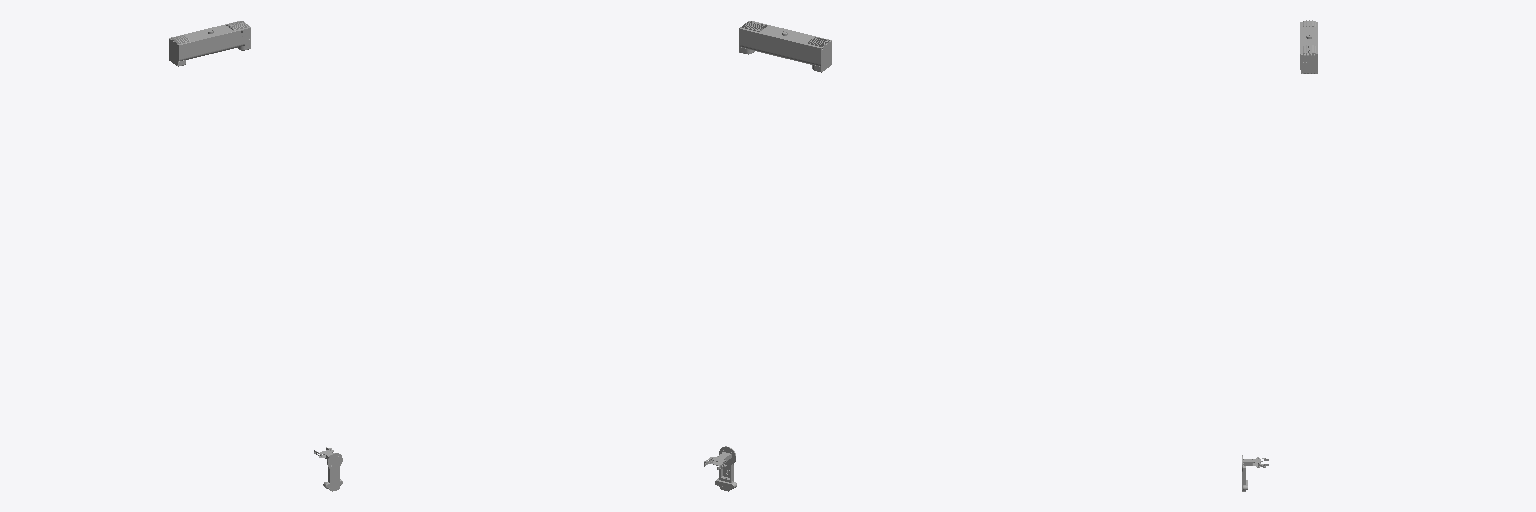
--- Render facts (derived) ---
The picture shows the robot from 3 angles, left to right: view 1: azimuth 30°, elevation 25°; view 2: azimuth 150°, elevation 25°; view 3: azimuth 270°, elevation 25°; orthographic projection.
Robot: LeftRobotSence — 24 links, 23 joints (12 revolute, 11 fixed); root link world_table; default pose: every joint at zero.
Visible links, largest first — view 1: COMATRIX_link; view 2: COMATRIX_link; view 3: COMATRIX_link.
Boxes of the visible links, x1,y1,x2,y2 form: COMATRIX_link: (169,21,250,66); COMATRIX_link: (739,21,831,72); COMATRIX_link: (1300,20,1317,73).
Size in the robot's own frame: 0.8365 by 0.4543 by 2.72 metres.
9 mesh visuals loaded from 18 distinct referenced files (9 Collada DAE); not drawn: 9 (reference not matched to a file when rendering).

robot.urdf — LeftRobotSence:
<?xml version="1.0" ?>
<!-- =================================================================================== -->
<!-- |    This document was autogenerated by xacro from [local-path]/catkin_ws/src/robot_description/urdf/sence/left_robot_calibration.urdf.xacro | -->
<!-- |    EDITING THIS FILE BY HAND IS NOT RECOMMENDED                                 | -->
<!-- =================================================================================== -->
<robot name="LeftRobotSence">
    <!--
    Base UR robot series xacro macro.

    NOTE: this is NOT a URDF. It cannot directly be loaded by consumers
    expecting a flattened '.urdf' file. See the top-level '.xacro' for that
    (but note: that .xacro must still be processed by the xacro command).

    For use in '.launch' files: use one of the 'load_urX.launch' convenience
    launch files.

    This file models the base kinematic chain of a UR robot, which then gets
    parameterised by various configuration files to convert it into a UR3(e),
    UR5(e), UR10(e) or UR16e.

    NOTE: the default kinematic parameters (ie: link lengths, frame locations,
    offets, etc) do not correspond to any particular robot. They are defaults
    only. There WILL be non-zero offsets between the Forward Kinematics results
    in TF (ie: robot_state_publisher) and the values reported by the Teach
    Pendant.

    For accurate (and robot-specific) transforms, the 'kinematics_parameters_file'
    parameter MUST point to a .yaml file containing the appropriate values for
    the targetted robot.

    If using the UniversalRobots/Universal_Robots_ROS_Driver, follow the steps
    described in the readme of that repository to extract the kinematic
    calibration from the controller and generate the required .yaml file.

    Main author of the migration to yaml configs: Ludovic Delval.

    Contributors to previous versions (in no particular order):

     - Felix Messmer
     - Kelsey Hawkins
     - Wim Meeussen
     - Shaun Edwards
     - Nadia Hammoudeh Garcia
     - Dave Hershberger
     - G. vd. Hoorn
     - Philip Long
     - Dave Coleman
     - Miguel Prada
     - Mathias Luedtke
     - Marcel Schnirring
     - Felix von Drigalski
     - Felix Exner
     - Jimmy Da Silva
     - Ajit Krisshna N L
     - Muhammad Asif Rana
  -->
    <!--
    NOTE: the macro defined in this file is NOT part of the public API of this
          package. Users CANNOT rely on this file being available, or stored in
          this location. Nor can they rely on the existence of the macro.
  -->
    <transmission name="leftshoulder_pan_trans">
        <type>transmission_interface/SimpleTransmission</type>
        <joint name="leftshoulder_pan_joint">
            <hardwareInterface>hardware_interface/PositionJointInterface</hardwareInterface>
        </joint>
        <actuator name="leftshoulder_pan_motor">
            <mechanicalReduction>1</mechanicalReduction>
            <hardwareInterface>hardware_interface/EffortJointInterface</hardwareInterface>
        </actuator>
    </transmission>
    <transmission name="leftshoulder_lift_trans">
        <type>transmission_interface/SimpleTransmission</type>
        <joint name="leftshoulder_lift_joint">
            <hardwareInterface>hardware_interface/PositionJointInterface</hardwareInterface>
        </joint>
        <actuator name="leftshoulder_lift_motor">
            <mechanicalReduction>1</mechanicalReduction>
            <hardwareInterface>hardware_interface/EffortJointInterface</hardwareInterface>
        </actuator>
    </transmission>
    <transmission name="leftelbow_trans">
        <type>transmission_interface/SimpleTransmission</type>
        <joint name="leftelbow_joint">
            <hardwareInterface>hardware_interface/PositionJointInterface</hardwareInterface>
        </joint>
        <actuator name="leftelbow_motor">
            <mechanicalReduction>1</mechanicalReduction>
            <hardwareInterface>hardware_interface/EffortJointInterface</hardwareInterface>
        </actuator>
    </transmission>
    <transmission name="leftwrist_1_trans">
        <type>transmission_interface/SimpleTransmission</type>
        <joint name="leftwrist_1_joint">
            <hardwareInterface>hardware_interface/PositionJointInterface</hardwareInterface>
        </joint>
        <actuator name="leftwrist_1_motor">
            <mechanicalReduction>1</mechanicalReduction>
            <hardwareInterface>hardware_interface/EffortJointInterface</hardwareInterface>
        </actuator>
    </transmission>
    <transmission name="leftwrist_2_trans">
        <type>transmission_interface/SimpleTransmission</type>
        <joint name="leftwrist_2_joint">
            <hardwareInterface>hardware_interface/PositionJointInterface</hardwareInterface>
        </joint>
        <actuator name="leftwrist_2_motor">
            <mechanicalReduction>1</mechanicalReduction>
            <hardwareInterface>hardware_interface/EffortJointInterface</hardwareInterface>
        </actuator>
    </transmission>
    <transmission name="leftwrist_3_trans">
        <type>transmission_interface/SimpleTransmission</type>
        <joint name="leftwrist_3_joint">
            <hardwareInterface>hardware_interface/PositionJointInterface</hardwareInterface>
        </joint>
        <actuator name="leftwrist_3_motor">
            <mechanicalReduction>1</mechanicalReduction>
            <hardwareInterface>hardware_interface/EffortJointInterface</hardwareInterface>
        </actuator>
    </transmission>
    <!-- links: main serial chain -->
    <link name="leftbase_link" />
    <link name="leftbase_link_inertia">
        <visual>
            <origin rpy="0 0 3.141592653589793" xyz="0 0 0" />
            <geometry>
                <mesh filename="package://robot_description/meshes/ur5/visual/base.dae" />
            </geometry>
            <material name="LightGrey">
                <color rgba="0.7 0.7 0.7 1.0" />
            </material>
        </visual>
        <collision>
            <origin rpy="0 0 3.141592653589793" xyz="0 0 0" />
            <geometry>
                <mesh filename="package://robot_description/meshes/ur5/collision/base.stl" />
            </geometry>
        </collision>
        <inertial>
            <mass value="4.0" />
            <origin rpy="0 0 0" xyz="0 0 0" />
            <inertia ixx="0.00443333156" ixy="0.0" ixz="0.0" iyy="0.00443333156" iyz="0.0" izz="0.0072" />
        </inertial>
    </link>
    <link name="leftshoulder_link">
        <visual>
            <origin rpy="0 0 3.141592653589793" xyz="0 0 0" />
            <geometry>
                <mesh filename="package://robot_description/meshes/ur5/visual/shoulder.dae" />
            </geometry>
            <material name="LightGrey">
                <color rgba="0.7 0.7 0.7 1.0" />
            </material>
        </visual>
        <collision>
            <origin rpy="0 0 3.141592653589793" xyz="0 0 0" />
            <geometry>
                <mesh filename="package://robot_description/meshes/ur5/collision/shoulder.stl" />
            </geometry>
        </collision>
        <inertial>
            <mass value="3.7" />
            <origin rpy="0 0 0" xyz="0 0 0" />
            <inertia ixx="0.014972352344389999" ixy="0.0" ixz="0.0" iyy="0.014972352344389999" iyz="0.0" izz="0.01040625" />
        </inertial>
    </link>
    <link name="leftupper_arm_link">
        <visual>
            <origin rpy="1.5707963267948966 0 -1.5707963267948966" xyz="0 0 0.13585" />
            <geometry>
                <mesh filename="package://robot_description/meshes/ur5/visual/upperarm.dae" />
            </geometry>
            <material name="LightGrey">
                <color rgba="0.7 0.7 0.7 1.0" />
            </material>
        </visual>
        <collision>
            <origin rpy="1.5707963267948966 0 -1.5707963267948966" xyz="0 0 0.13585" />
            <geometry>
                <mesh filename="package://robot_description/meshes/ur5/collision/upperarm.stl" />
            </geometry>
        </collision>
        <inertial>
            <mass value="8.393" />
            <origin rpy="0 1.5707963267948966 0" xyz="-0.2125 0.0 0.136" />
            <inertia ixx="0.1338857818623325" ixy="0.0" ixz="0.0" iyy="0.1338857818623325" iyz="0.0" izz="0.0151074" />
        </inertial>
    </link>
    <link name="leftforearm_link">
        <visual>
            <origin rpy="1.5707963267948966 0 -1.5707963267948966" xyz="0 0 0.0165" />
            <geometry>
                <mesh filename="package://robot_description/meshes/ur5/visual/forearm.dae" />
            </geometry>
            <material name="LightGrey">
                <color rgba="0.7 0.7 0.7 1.0" />
            </material>
        </visual>
        <collision>
            <origin rpy="1.5707963267948966 0 -1.5707963267948966" xyz="0 0 0.0165" />
            <geometry>
                <mesh filename="package://robot_description/meshes/ur5/collision/forearm.stl" />
            </geometry>
        </collision>
        <inertial>
            <mass value="2.275" />
            <origin rpy="0 1.5707963267948966 0" xyz="-0.196125 0.0 0.0165" />
            <inertia ixx="0.03121679102890359" ixy="0.0" ixz="0.0" iyy="0.03121679102890359" iyz="0.0" izz="0.004095" />
        </inertial>
    </link>
    <link name="leftwrist_1_link">
        <visual>
            <!-- TODO: Move this to a parameter -->
            <origin rpy="1.5707963267948966 0 0" xyz="0 0 -0.093" />
            <geometry>
                <mesh filename="package://robot_description/meshes/ur5/visual/wrist1.dae" />
            </geometry>
            <material name="LightGrey">
                <color rgba="0.7 0.7 0.7 1.0" />
            </material>
        </visual>
        <collision>
            <origin rpy="1.5707963267948966 0 0" xyz="0 0 -0.093" />
            <geometry>
                <mesh filename="package://robot_description/meshes/ur5/collision/wrist1.stl" />
            </geometry>
        </collision>
        <inertial>
            <mass value="1.219" />
            <origin rpy="0 0 0" xyz="0 0 0" />
            <inertia ixx="0.0020138887777775" ixy="0.0" ixz="0.0" iyy="0.0020138887777775" iyz="0.0" izz="0.0021942" />
        </inertial>
    </link>
    <link name="leftwrist_2_link">
        <visual>
            <origin rpy="0 0 0" xyz="0 0 -0.095" />
            <geometry>
                <mesh filename="package://robot_description/meshes/ur5/visual/wrist2.dae" />
            </geometry>
            <material name="LightGrey">
                <color rgba="0.7 0.7 0.7 1.0" />
            </material>
        </visual>
        <collision>
            <origin rpy="0 0 0" xyz="0 0 -0.095" />
            <geometry>
                <mesh filename="package://robot_description/meshes/ur5/collision/wrist2.stl" />
            </geometry>
        </collision>
        <inertial>
            <mass value="1.219" />
            <origin rpy="0 0 0" xyz="0 0 0" />
            <inertia ixx="0.0018310388509175" ixy="0.0" ixz="0.0" iyy="0.0018310388509175" iyz="0.0" izz="0.0021942" />
        </inertial>
    </link>
    <link name="leftwrist_3_link">
        <visual>
            <origin rpy="1.5707963267948966 0 0" xyz="0 0 -0.0818" />
            <geometry>
                <mesh filename="package://robot_description/meshes/ur5/visual/wrist3.dae" />
            </geometry>
            <material name="LightGrey">
                <color rgba="0.7 0.7 0.7 1.0" />
            </material>
        </visual>
        <collision>
            <origin rpy="1.5707963267948966 0 0" xyz="0 0 -0.0818" />
            <geometry>
                <mesh filename="package://robot_description/meshes/ur5/collision/wrist3.stl" />
            </geometry>
        </collision>
        <inertial>
            <mass value="0.1879" />
            <origin rpy="0 0 0" xyz="0.0 0.0 -0.01525" />
            <inertia ixx="8.062472608343e-05" ixy="0.0" ixz="0.0" iyy="8.062472608343e-05" iyz="0.0" izz="0.0001321171875" />
        </inertial>
    </link>
    <!-- joints: main serial chain -->
    <joint name="leftbase_link-base_link_inertia" type="fixed">
        <parent link="leftbase_link" />
        <child link="leftbase_link_inertia" />
        <!-- 'base_link' is REP-103 aligned (so X+ forward), while the internal
           frames of the robot/controller have X+ pointing backwards.
           Use the joint between 'base_link' and 'base_link_inertia' (a dummy
           link/frame) to introduce the necessary rotation over Z (of pi rad).
      -->
        <origin rpy="0 0 3.141592653589793" xyz="0 0 0" />
    </joint>
    <joint name="leftshoulder_pan_joint" type="revolute">
        <parent link="leftbase_link_inertia" />
        <child link="leftshoulder_link" />
        <origin rpy="0 0 0" xyz="0 0 0.089159" />
        <axis xyz="0 0 1" />
        <limit effort="150.0" lower="-6.283185307179586" upper="6.283185307179586" velocity="3.141592653589793" />
        <dynamics damping="0" friction="0" />
    </joint>
    <joint name="leftshoulder_lift_joint" type="revolute">
        <parent link="leftshoulder_link" />
        <child link="leftupper_arm_link" />
        <origin rpy="1.570796327 0 0" xyz="0 0 0" />
        <axis xyz="0 0 1" />
        <limit effort="150.0" lower="-6.283185307179586" upper="6.283185307179586" velocity="3.141592653589793" />
        <dynamics damping="0" friction="0" />
    </joint>
    <joint name="leftelbow_joint" type="revolute">
        <parent link="leftupper_arm_link" />
        <child link="leftforearm_link" />
        <origin rpy="0 0 0" xyz="-0.425 0 0" />
        <axis xyz="0 0 1" />
        <limit effort="150.0" lower="-3.141592653589793" upper="3.141592653589793" velocity="3.141592653589793" />
        <dynamics damping="0" friction="0" />
    </joint>
    <joint name="leftwrist_1_joint" type="revolute">
        <parent link="leftforearm_link" />
        <child link="leftwrist_1_link" />
        <origin rpy="0 0 0" xyz="-0.39225 0 0.10915" />
        <axis xyz="0 0 1" />
        <limit effort="28.0" lower="-6.283185307179586" upper="6.283185307179586" velocity="3.141592653589793" />
        <dynamics damping="0" friction="0" />
    </joint>
    <joint name="leftwrist_2_joint" type="revolute">
        <parent link="leftwrist_1_link" />
        <child link="leftwrist_2_link" />
        <origin rpy="1.570796327 0 0" xyz="0 -0.09465 -1.941303950897609e-11" />
        <axis xyz="0 0 1" />
        <limit effort="28.0" lower="-6.283185307179586" upper="6.283185307179586" velocity="3.141592653589793" />
        <dynamics damping="0" friction="0" />
    </joint>
    <joint name="leftwrist_3_joint" type="revolute">
        <parent link="leftwrist_2_link" />
        <child link="leftwrist_3_link" />
        <origin rpy="1.570796326589793 3.141592653589793 3.141592653589793" xyz="0 0.0823 -1.688001216681175e-11" />
        <axis xyz="0 0 1" />
        <limit effort="28.0" lower="-6.283185307179586" upper="6.283185307179586" velocity="3.141592653589793" />
        <dynamics damping="0" friction="0" />
    </joint>
    <!-- ROS-Industrial 'base' frame: base_link to UR 'Base' Coordinates transform -->
    <link name="leftbase" />
    <joint name="leftbase_link-base_fixed_joint" type="fixed">
        <!-- Note the rotation over Z of pi radians: as base_link is REP-103
           aligned (ie: has X+ forward, Y+ left and Z+ up), this is needed
           to correctly align 'base' with the 'Base' coordinate system of
           the UR controller.
      -->
        <origin rpy="0 0 3.141592653589793" xyz="0 0 0" />
        <parent link="leftbase_link" />
        <child link="leftbase" />
    </joint>
    <!-- ROS-Industrial 'flange' frame: attachment point for EEF models -->
    <link name="leftflange" />
    <joint name="leftwrist_3-flange" type="fixed">
        <parent link="leftwrist_3_link" />
        <child link="leftflange" />
        <origin rpy="0 -1.5707963267948966 -1.5707963267948966" xyz="0 0 0" />
    </joint>
    <!-- ROS-Industrial 'tool0' frame: all-zeros tool frame -->
    <link name="lefttool0" />
    <joint name="leftflange-tool0" type="fixed">
        <!-- default toolframe: X+ left, Y+ up, Z+ front -->
        <origin rpy="1.5707963267948966 0 1.5707963267948966" xyz="0 0 0" />
        <parent link="leftflange" />
        <child link="lefttool0" />
    </joint>
    <!--Import Table-->
    <link name="world_table">
        <visual>
            <origin rpy="0 0 0" xyz="0 0 0" />
            <geometry>
                <mesh filename="package://robot_description/meshes/table/visual/table.dae" />
            </geometry>
            <material name="LightGrey">
                <color rgba="0.7 0.7 0.7 1.0" />
            </material>
        </visual>
        <collision>
            <origin rpy="0 0 0" xyz="0 0 0" />
            <geometry>
                <mesh filename="package://robot_description/meshes/table/collision/table.stl" />
            </geometry>
        </collision>
        <inertial>
            <mass value="0.1" />
            <origin xyz="0 0 0" rpy="0 0 0" />
            <inertia ixx="0.03" iyy="0.03" izz="0.03" ixy="0.0" ixz="0.0" iyz="0.0" />
        </inertial>
    </link>
    <!--Joint UR and Table-->
    <joint name="left" type="fixed">
        <origin rpy="0 0 0" xyz="0 0 0" />
        <parent link="world_table" />
        <child link="leftbase_link" />
    </joint>
    <link name="leftgripper_base_link">
        <inertial>
            <origin rpy="0 0 0" xyz="-0.00015832550859178 6.00986629246958E-08 0.0334714588842836" />
            <mass value="0.0614516745908847" />
            <inertia ixx="4.71226790326537E-05" ixy="-6.42799733453212E-12" ixz="-8.59927126234267E-08" iyy="3.68270723657892E-05" iyz="-1.57730454020778E-10" izz="2.83716920169738E-05" />
        </inertial>
        <visual>
            <origin rpy="0 0 0" xyz="0 0 0" />
            <geometry>
                <mesh filename="package://robot_description/meshes/gripper/visual/base_link.dae" />
            </geometry>
            <material name="LightGrey">
                <color rgba="0.7 0.7 0.7 1.0" />
            </material>
        </visual>
        <collision>
            <origin rpy="0 0 0" xyz="0 0 0" />
            <geometry>
                <mesh filename="package://robot_description/meshes/gripper/collision/base_link.stl" />
            </geometry>
        </collision>
    </link>
    <gazebo reference="leftgripper_base_link">
        <implicitSpringDamper>1</implicitSpringDamper>
        <mu1>100000</mu1>
        <mu2>100000</mu2>
        <kp>100000000.0</kp>
        <kd>1.0</kd>
        <plugin name="gazebo_ros_control">
            <robotNamespace>/</robotNamespace>
        </plugin>
    </gazebo>
    <link name="leftright_inner_finger_link">
        <inertial>
            <origin rpy="0 0 0" xyz="-0.000547718903149107 -0.00473632997360129 -6.95938636933526E-18" />
            <mass value="0.00164745875291186" />
            <inertia ixx="1.26149737590104E-07" ixy="3.54278298182331E-08" ixz="-1.28016412271008E-23" iyy="6.1942875677354E-08" iyz="1.93258504605574E-23" izz="1.48553603197574E-07" />
        </inertial>
        <visual>
            <origin rpy="0 0 0" xyz="0 0 0" />
            <geometry>
                <mesh filename="package://robot_description/meshes/gripper/visual/right_inner_finger_link.dae" />
            </geometry>
            <material name="LightGrey">
                <color rgba="0.7 0.7 0.7 1.0" />
            </material>
        </visual>
        <collision>
            <origin rpy="0 0 0" xyz="0 0 0" />
            <geometry>
                <mesh filename="package://robot_description/meshes/gripper/collision/right_inner_finger_link.stl" />
            </geometry>
        </collision>
    </link>
    <gazebo reference="leftright_finger_link">
        <implicitSpringDamper>1</implicitSpringDamper>
        <mu1>100000</mu1>
        <mu2>100000</mu2>
        <kp>100000000.0</kp>
        <kd>1.0</kd>
    </gazebo>
    <link name="leftleft_inner_finger_link">
        <inertial>
            <origin rpy="0 0 0" xyz="0.000547718903149107 -0.00473632997360129 1.64062646842289E-18" />
            <mass value="0.00164745875291187" />
            <inertia ixx="1.26149737590105E-07" ixy="-3.54278298182331E-08" ixz="5.96972422095491E-23" iyy="6.19428756773541E-08" iyz="1.01825795219911E-22" izz="1.48553603197574E-07" />
        </inertial>
        <visual>
            <origin rpy="0 0 0" xyz="0 0 0" />
            <geometry>
                <mesh filename="package://robot_description/meshes/gripper/visual/left_inner_finger_link.dae" />
            </geometry>
            <material name="LightGrey">
                <color rgba="0.7 0.7 0.7 1.0" />
            </material>
        </visual>
        <collision>
            <origin rpy="0 0 0" xyz="0 0 0" />
            <geometry>
                <mesh filename="package://robot_description/meshes/gripper/collision/left_inner_finger_link.stl" />
            </geometry>
        </collision>
    </link>
    <gazebo reference="leftleft_inner_finger_link">
        <implicitSpringDamper>1</implicitSpringDamper>
        <mu1>100000</mu1>
        <mu2>100000</mu2>
        <kp>100000000.0</kp>
        <kd>1.0</kd>
    </gazebo>
    <link name="leftright_outer_knuckle_link">
        <inertial>
            <origin rpy="0 0 0" xyz="-0.00398472564378293 -0.0153423687779195 -8.77649391425714E-18" />
            <mass value="0.00190973027372148" />
            <inertia ixx="4.56971124963922E-07" ixy="-9.82459557625233E-08" ixz="1.92074243296741E-23" iyy="1.04211699335194E-07" iyz="-1.29279011708164E-22" izz="4.1648520150152E-07" />
        </inertial>
        <visual>
            <origin rpy="0 0 0" xyz="0 0 0" />
            <geometry>
                <mesh filename="package://robot_description/meshes/gripper/visual/right_outer_knuckle_link.dae" />
            </geometry>
            <material name="LightGrey">
                <color rgba="0.7 0.7 0.7 1.0" />
            </material>
        </visual>
        <collision>
            <origin rpy="0 0 0" xyz="0 0 0" />
            <geometry>
                <mesh filename="package://robot_description/meshes/gripper/collision/right_outer_knuckle_link.stl" />
            </geometry>
        </collision>
    </link>
    <gazebo reference="leftright_finger_link">
        <implicitSpringDamper>1</implicitSpringDamper>
        <mu1>100000</mu1>
        <mu2>100000</mu2>
        <kp>100000000.0</kp>
        <kd>1.0</kd>
    </gazebo>
    <link name="leftleft_outer_knuckle_link">
        <inertial>
            <origin rpy="0 0 0" xyz="0.00398472564378281 -0.0153423687779195 -1.19200041555778E-17" />
            <mass value="0.00190973027372148" />
            <inertia ixx="4.56971124963924E-07" ixy="9.82459557625202E-08" ixz="-1.13080553862188E-22" iyy="1.04211699335192E-07" iyz="-2.62367579147821E-22" izz="4.1648520150152E-07" />
        </inertial>
        <visual>
            <origin rpy="0 0 0" xyz="0 0 0" />
            <geometry>
                <mesh filename="package://robot_description/meshes/gripper/visual/left_outer_knuckle_link.dae" />
            </geometry>
            <material name="LightGrey">
                <color rgba="0.7 0.7 0.7 1.0" />
            </material>
        </visual>
        <collision>
            <origin rpy="0 0 0" xyz="0 0 0" />
            <geometry>
                <mesh filename="package://robot_description/meshes/gripper/collision/left_outer_knuckle_link.stl" />
            </geometry>
        </collision>
    </link>
    <gazebo reference="leftleft_finger_link">
        <implicitSpringDamper>1</implicitSpringDamper>
        <mu1>100000</mu1>
        <mu2>100000</mu2>
        <kp>100000000.0</kp>
        <kd>1.0</kd>
    </gazebo>
    <link name="leftright_inner_knuckle_link">
        <inertial>
            <origin rpy="0 0 0" xyz="-0.00411416532845304 -0.0158407497341605 3.97769607966968E-20" />
            <mass value="0.0032941860316693" />
            <inertia ixx="5.25416511458173E-07" ixy="-1.08533522266847E-07" ixz="-1.89801444979313E-23" iyy="1.35718811647913E-07" iyz="-3.00404672564573E-23" izz="4.67315893953276E-07" />
        </inertial>
        <visual>
            <origin rpy="0 0 0" xyz="0 0 0" />
            <geometry>
                <mesh filename="package://robot_description/meshes/gripper/visual/right_inner_knuckle_link.dae" />
            </geometry>
            <material name="LightGrey">
                <color rgba="0.7 0.7 0.7 1.0" />
            </material>
        </visual>
        <collision>
            <origin rpy="0 0 0" xyz="0 0 0" />
            <geometry>
                <mesh filename="package://robot_description/meshes/gripper/collision/right_inner_knuckle_link.stl" />
            </geometry>
        </collision>
    </link>
    <gazebo reference="leftright_inner_knuckle_link">
        <implicitSpringDamper>1</implicitSpringDamper>
        <mu1>100000</mu1>
        <mu2>100000</mu2>
        <kp>100000000.0</kp>
        <kd>1.0</kd>
    </gazebo>
    <link name="leftleft_inner_knuckle_link">
        <inertial>
            <origin rpy="0 0 0" xyz="0.0041141653284529 -0.0158407497341605 -4.77705239959184E-18" />
            <mass value="0.0032941860316693" />
            <inertia ixx="5.25416511458174E-07" ixy="1.08533522266844E-07" ixz="-1.95225749930408E-22" iyy="1.35718811647911E-07" iyz="-8.20512748131175E-23" izz="4.67315893953276E-07" />
        </inertial>
        <visual>
            <origin rpy="0 0 0" xyz="0 0 0" />
            <geometry>
                <mesh filename="package://robot_description/meshes/gripper/visual/left_inner_knuckle_link.dae" />
            </geometry>
            <material name="LightGrey">
                <color rgba="0.7 0.7 0.7 1.0" />
            </material>
        </visual>
        <collision>
            <origin rpy="0 0 0" xyz="0 0 0" />
            <geometry>
                <mesh filename="package://robot_description/meshes/gripper/collision/left_inner_knuckle_link.stl" />
            </geometry>
        </collision>
    </link>
    <gazebo reference="leftleft_inner_knuckle_link">
        <implicitSpringDamper>1</implicitSpringDamper>
        <mu1>100000</mu1>
        <mu2>100000</mu2>
        <kp>100000000.0</kp>
        <kd>1.0</kd>
    </gazebo>
    <joint name="leftright_inner_knuckle_joint" type="revolute">
        <origin rpy="-1.5708 0 -1.5708" xyz="0 0.03 0.1" />
        <parent link="leftgripper_base_link" />
        <child link="leftright_inner_knuckle_link" />
        <axis xyz="0 0 1" />
        <limit effort="1000" lower="0" upper="0.9" velocity="1" />
    </joint>
    <joint name="leftleft_inner_knuckle_joint" type="revolute">
        <origin rpy="-1.5708 0 -1.5708" xyz="0 -0.03 0.1" />
        <parent link="leftgripper_base_link" />
        <child link="leftleft_inner_knuckle_link" />
        <axis xyz="0 0 1" />
        <limit effort="0.1" lower="-3.14" upper="3.14" velocity="100" />
        <mimic joint="leftright_inner_knuckle_joint" multiplier="-1" />
    </joint>
    <joint name="leftright_outer_knuckle_joint" type="revolute">
        <origin rpy="-1.5708 0 -1.5708" xyz="0 0.04 0.098" />
        <parent link="leftgripper_base_link" />
        <child link="leftright_outer_knuckle_link" />
        <axis xyz="0 0 1" />
        <limit effort="0.1" lower="-3.14" upper="3.14" velocity="100" />
        <mimic joint="leftright_inner_knuckle_joint" offset="0" />
    </joint>
    <joint name="leftleft_outer_knuckle_joint" type="revolute">
        <origin rpy="-1.5708 0 -1.5708" xyz="0 -0.04 0.098" />
        <parent link="leftgripper_base_link" />
        <child link="leftleft_outer_knuckle_link" />
        <axis xyz="0 0 1" />
        <limit effort="0.1" lower="-3.14" upper="3.14" velocity="100" />
        <mimic joint="leftright_inner_knuckle_joint" multiplier="-1" />
    </joint>
    <joint name="leftright_inner_finger_joint" type="revolute">
        <origin rpy="0 0 0" xyz="-0.0105579737308061 -0.0406513122875462 0" />
        <parent link="leftright_inner_knuckle_link" />
        <child link="leftright_inner_finger_link" />
        <axis xyz="0 0 1" />
        <limit effort="0.1" lower="-3.14" upper="3.14" velocity="100" />
        <mimic joint="leftright_inner_knuckle_joint" multiplier="-1" />
    </joint>
    <joint name="leftleft_inner_finger_joint" type="revolute">
        <origin rpy="0 0 0" xyz="0.0105579737308078 -0.040651312287546 0" />
        <parent link="leftleft_inner_knuckle_link" />
        <child link="leftleft_inner_finger_link" />
        <axis xyz="0 0 1" />
        <limit effort="0.1" lower="-3.14" upper="3.14" velocity="100" />
        <mimic joint="leftright_inner_knuckle_joint" multiplier="1" />
    </joint>
    <transmission name="leftright_inner_knuckle_joint">
        <type>transmission_interface/SimpleTransmission</type>
        <joint name="leftright_inner_knuckle_joint">
            <hardwareInterface>hardware_interface/PositionJointInterface</hardwareInterface>
        </joint>
        <actuator name="leftright_inner_knuckle_motor">
            <mechanicalReduction>1</mechanicalReduction>
            <hardwareInterface>PositionJointInterface</hardwareInterface>
        </actuator>
    </transmission>
    <gazebo>
        <!-- loading plugin: mimic joints works in gazebo now -->
        <plugin filename="libroboticsgroup_upatras_gazebo_mimic_joint_plugin.so" name="leftmimic_gripper_1">
            <joint>leftright_inner_knuckle_joint</joint>
            <mimicJoint>leftleft_inner_knuckle_joint</mimicJoint>
            <!--multiplier>1.0</multiplier>
                <offset>0.0</offset-->
        </plugin>
        <plugin filename="libroboticsgroup_upatras_gazebo_mimic_joint_plugin.so" name="leftmimic_gripper_2">
            <joint>leftright_inner_knuckle_joint</joint>
            <mimicJoint>leftright_outer_knuckle_joint</mimicJoint>
            <!--multiplier>1.0</multiplier>
                <offset>0.0</offset-->
        </plugin>
        <plugin filename="libroboticsgroup_upatras_gazebo_mimic_joint_plugin.so" name="leftmimic_gripper_3">
            <joint>leftright_inner_knuckle_joint</joint>
            <mimicJoint>leftleft_outer_knuckle_joint</mimicJoint>
            <!--multiplier>1.0</multiplier>
                <offset>0.0</offset-->
        </plugin>
        <plugin filename="libroboticsgroup_upatras_gazebo_mimic_joint_plugin.so" name="leftmimic_gripper_4">
            <joint>leftright_inner_knuckle_joint</joint>
            <mimicJoint>leftright_inner_finger_joint</mimicJoint>
            <!--multiplier>-1.0</multiplier>
                <offset>0.0</offset-->
        </plugin>
        <plugin filename="libroboticsgroup_upatras_gazebo_mimic_joint_plugin.so" name="leftmimic_gripper_5">
            <joint>leftright_inner_knuckle_joint</joint>
            <mimicJoint>leftleft_inner_finger_joint</mimicJoint>
            <!--multiplier>-1.0</multiplier>
                <offset>0.0</offset-->
        </plugin>
    </gazebo>
    <!--Define link-->
    <link name="COMATRIX_link">
        <visual>
            <origin rpy="0 0 0" xyz="0 0 0" />
            <geometry>
                <mesh filename="package://robot_description/meshes/camera/COMATRIX/visual/COMATRIX.dae" />
            </geometry>
            <material name="LightGrey">
                <color rgba="0.7 0.7 0.7 1.0" />
            </material>
        </visual>
        <collision>
            <origin rpy="0 0 0" xyz="0 0 0" />
            <geometry>
                <mesh filename="package://robot_description/meshes/camera/COMATRIX/collision/COMATRIX.stl" />
            </geometry>
        </collision>
        <inertial>
            <mass value="0.1" />
            <origin xyz="0 0 0" rpy="0 0 0" />
            <inertia ixx="0.03" iyy="0.03" izz="0.03" ixy="0.0" ixz="0.0" iyz="0.0" />
        </inertial>
    </link>
    <gazebo reference="COMATRIX_link">
        <implicitSpringDamper>1</implicitSpringDamper>
        <mu1>100000</mu1>
        <mu2>100000</mu2>
        <kp>100000000.0</kp>
        <kd>1.0</kd>
    </gazebo>
    <link name="COMATRIX_base_link" />
    <joint name="COMATRIX_joint" type="fixed">
        <origin rpy="0 0 0" xyz="0 0 0" />
        <parent link="COMATRIX_base_link" />
        <child link="COMATRIX_link" />
    </joint>
    <!--Define link-->
    <link name="Mount_link">
        <visual>
            <origin rpy="0 0 0" xyz="0 0 0" />
            <geometry>
                <mesh filename="package://robot_description/meshes/camera/D435I/visual/link.dae" />
            </geometry>
            <material name="LightGrey">
                <color rgba="0.7 0.7 0.7 1.0" />
            </material>
        </visual>
        <collision>
            <origin rpy="0 0 0" xyz="0 0 0" />
            <geometry>
                <mesh filename="package://robot_description/meshes/camera/D435I/collision/link.stl" />
            </geometry>
        </collision>
        <inertial>
            <mass value="0.1" />
            <origin xyz="0 0 0" rpy="0 0 0" />
            <inertia ixx="0.03" iyy="0.03" izz="0.03" ixy="0.0" ixz="0.0" iyz="0.0" />
        </inertial>
    </link>
    <gazebo reference="Mount_link">
        <implicitSpringDamper>1</implicitSpringDamper>
        <mu1>100000</mu1>
        <mu2>100000</mu2>
        <kp>100000000.0</kp>
        <kd>1.0</kd>
    </gazebo>
    <link name="D435I_link">
        <visual>
            <origin rpy="0 0 0" xyz="0 0 0" />
            <geometry>
                <mesh filename="package://robot_description/meshes/camera/D435I/visual/D435I.dae" />
            </geometry>
            <material name="LightGrey">
                <color rgba="0.7 0.7 0.7 1.0" />
            </material>
        </visual>
        <collision>
            <origin rpy="0 0 0" xyz="0 0 0" />
            <geometry>
                <mesh filename="package://robot_description/meshes/camera/D435I/collision/D435I.stl" />
            </geometry>
        </collision>
        <inertial>
            <mass value="0.1" />
            <origin xyz="0 0 0" rpy="0 0 0" />
            <inertia ixx="0.03" iyy="0.03" izz="0.03" ixy="0.0" ixz="0.0" iyz="0.0" />
        </inertial>
    </link>
    <gazebo reference="D435I_link">
        <implicitSpringDamper>1</implicitSpringDamper>
        <mu1>100000</mu1>
        <mu2>100000</mu2>
        <kp>100000000.0</kp>
        <kd>1.0</kd>
    </gazebo>
    <link name="D435I_base_link" />
    <joint name="D435I_joint" type="fixed">
        <origin rpy="0 0 0" xyz="0 0 0" />
        <parent link="D435I_base_link" />
        <child link="Mount_link" />
    </joint>
    <joint name="D435I_Mount_joint" type="fixed">
        <origin rpy="0 0 0" xyz="0.019063 0 -0.126116" />
        <parent link="Mount_link" />
        <child link="D435I_link" />
    </joint>
    <!--Camera - COMATRIX -->
    <joint name="camera_COMATRIX" type="fixed">
        <origin rpy="0 0 0" xyz="0.2685 0.5918 2.5362" />
        <parent link="world_table" />
        <child link="COMATRIX_base_link" />
    </joint>
    <!--Joint Left UR and Gripper-->
    <joint name="left_camera" type="fixed">
        <origin rpy="-1.5708 -1.5708 0" xyz="0 0 0" />
        <parent link="lefttool0" />
        <child link="D435I_base_link" />
    </joint>
    <joint name="left_gripper" type="fixed">
        <origin rpy="0 1.5708 0" xyz="0 0 0.005" />
        <parent link="D435I_base_link" />
        <child link="leftgripper_base_link" />
    </joint>
    <transmission name="trans_leftleft_inner_knuckle_joint">
        <type>transmission_interface/SimpleTransmission</type>
        <joint name="leftleft_inner_knuckle_joint">
            <hardwareInterface>hardware_interface/EffortJointInterface</hardwareInterface>
        </joint>
        <actuator name="leftleft_inner_knuckle_joint_motor">
            <hardwareInterface>hardware_interface/EffortJointInterface</hardwareInterface>
            <mechanicalReduction>1</mechanicalReduction>
        </actuator>
    </transmission>
    <transmission name="trans_leftright_outer_knuckle_joint">
        <type>transmission_interface/SimpleTransmission</type>
        <joint name="leftright_outer_knuckle_joint">
            <hardwareInterface>hardware_interface/EffortJointInterface</hardwareInterface>
        </joint>
        <actuator name="leftright_outer_knuckle_joint_motor">
            <hardwareInterface>hardware_interface/EffortJointInterface</hardwareInterface>
            <mechanicalReduction>1</mechanicalReduction>
        </actuator>
    </transmission>
    <transmission name="trans_leftleft_outer_knuckle_joint">
        <type>transmission_interface/SimpleTransmission</type>
        <joint name="leftleft_outer_knuckle_joint">
            <hardwareInterface>hardware_interface/EffortJointInterface</hardwareInterface>
        </joint>
        <actuator name="leftleft_outer_knuckle_joint_motor">
            <hardwareInterface>hardware_interface/EffortJointInterface</hardwareInterface>
            <mechanicalReduction>1</mechanicalReduction>
        </actuator>
    </transmission>
    <transmission name="trans_leftright_inner_finger_joint">
        <type>transmission_interface/SimpleTransmission</type>
        <joint name="leftright_inner_finger_joint">
            <hardwareInterface>hardware_interface/EffortJointInterface</hardwareInterface>
        </joint>
        <actuator name="leftright_inner_finger_joint_motor">
            <hardwareInterface>hardware_interface/EffortJointInterface</hardwareInterface>
            <mechanicalReduction>1</mechanicalReduction>
        </actuator>
    </transmission>
    <transmission name="trans_leftleft_inner_finger_joint">
        <type>transmission_interface/SimpleTransmission</type>
        <joint name="leftleft_inner_finger_joint">
            <hardwareInterface>hardware_interface/EffortJointInterface</hardwareInterface>
        </joint>
        <actuator name="leftleft_inner_finger_joint_motor">
            <hardwareInterface>hardware_interface/EffortJointInterface</hardwareInterface>
            <mechanicalReduction>1</mechanicalReduction>
        </actuator>
    </transmission>
</robot>
